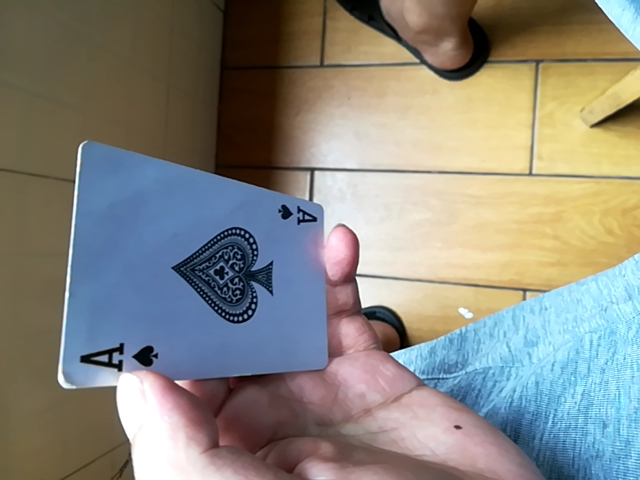ht a: (61, 138, 343, 394)
